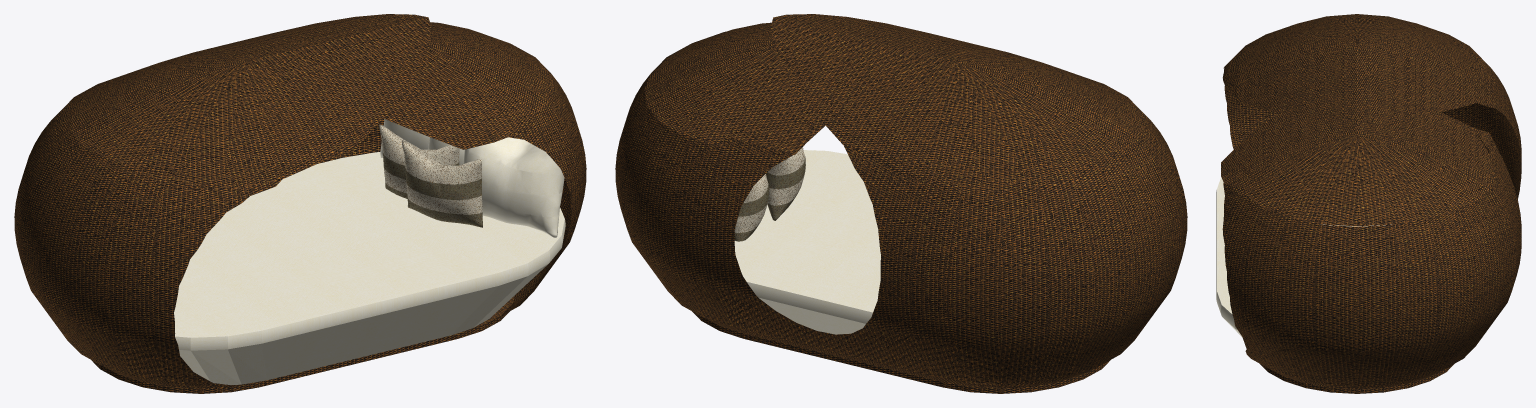
The model's file is daybed furniture 9.dae.
The picture shows the model from 3 angles, left to right: view 1: azimuth 30°, elevation 25°; view 2: azimuth 150°, elevation 25°; view 3: azimuth 270°, elevation 25°; orthographic projection. The views are drawn at different scales.
Visible parts, largest first — view 1: group_0, group_2, Group_582 (×2), Group_21 (×5); view 2: group_0, group_2, Group_21 (×3); view 3: group_0, group_2.
Boxes of the visible parts, x1,y1,x2,y2 form: group_0: (14,14,586,393); group_2: (174,152,565,384); Group_582 (×2): (379,119,564,237); Group_21 (×5): (379,124,482,227); group_0: (615,14,1187,393); group_2: (734,150,880,334); Group_21 (×3): (766,147,805,205); group_0: (1221,14,1521,393); group_2: (1216,177,1391,337).
Size of the model in its own units: 82.78 by 47.46 by 41.52.
Materials: 6 (6 with a texture image).
